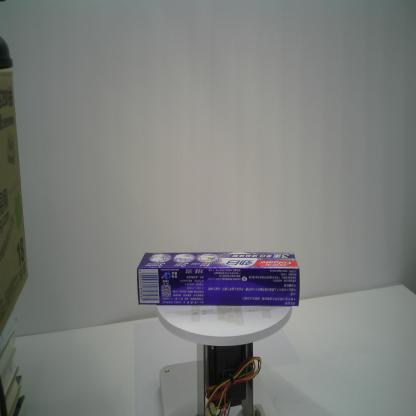Personal Hygiene: (138, 250, 300, 306)
